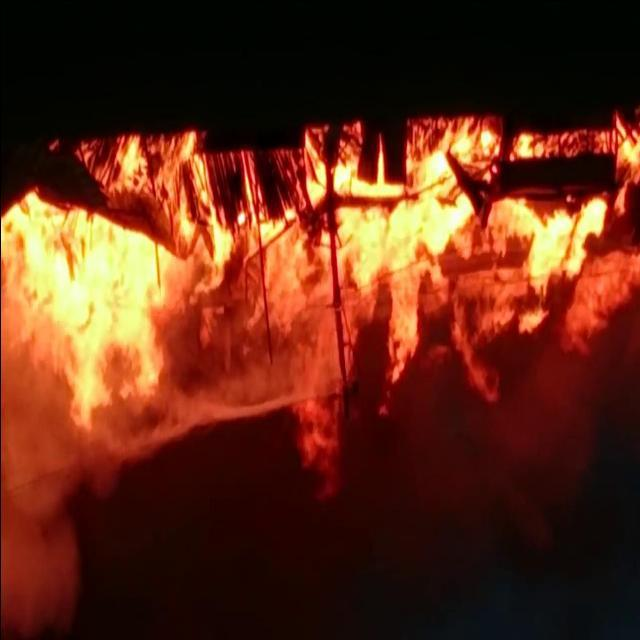Fire: (1, 118, 639, 496)
